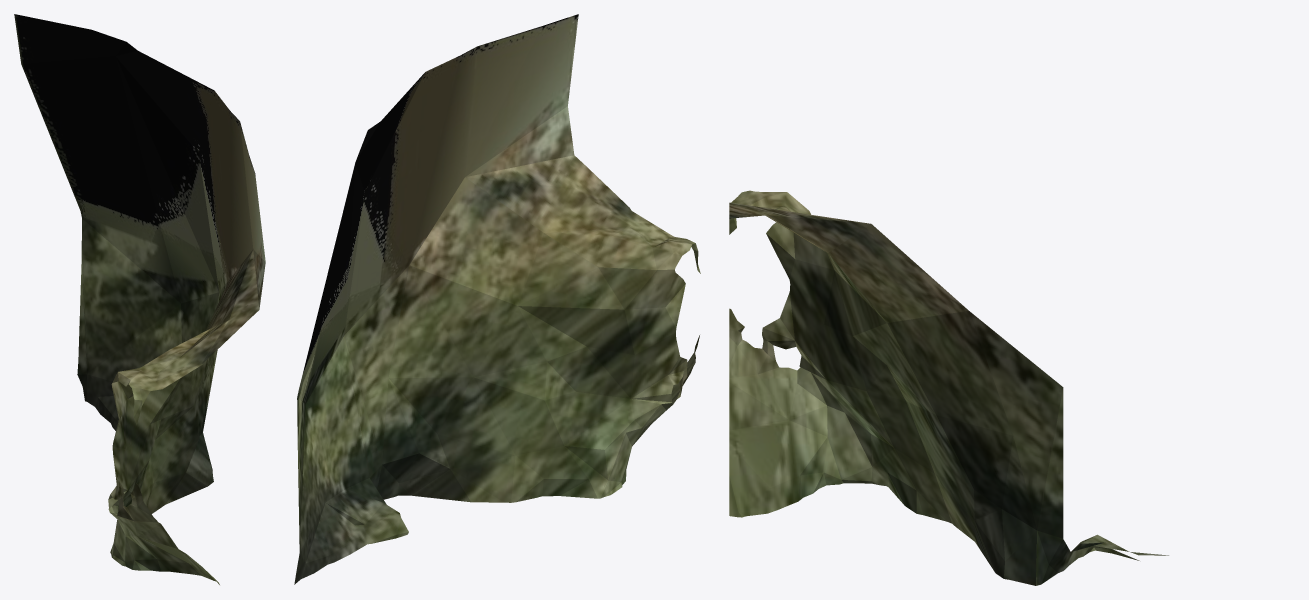
The picture shows the model from 3 angles, left to right: view 1: azimuth 30°, elevation 25°; view 2: azimuth 150°, elevation 25°; view 3: azimuth 270°, elevation 25°; orthographic projection. The views are drawn at different scales.
Size of the model in its own units: 3.27 by 5.9 by 5.9.
4 materials, 4 textured.
